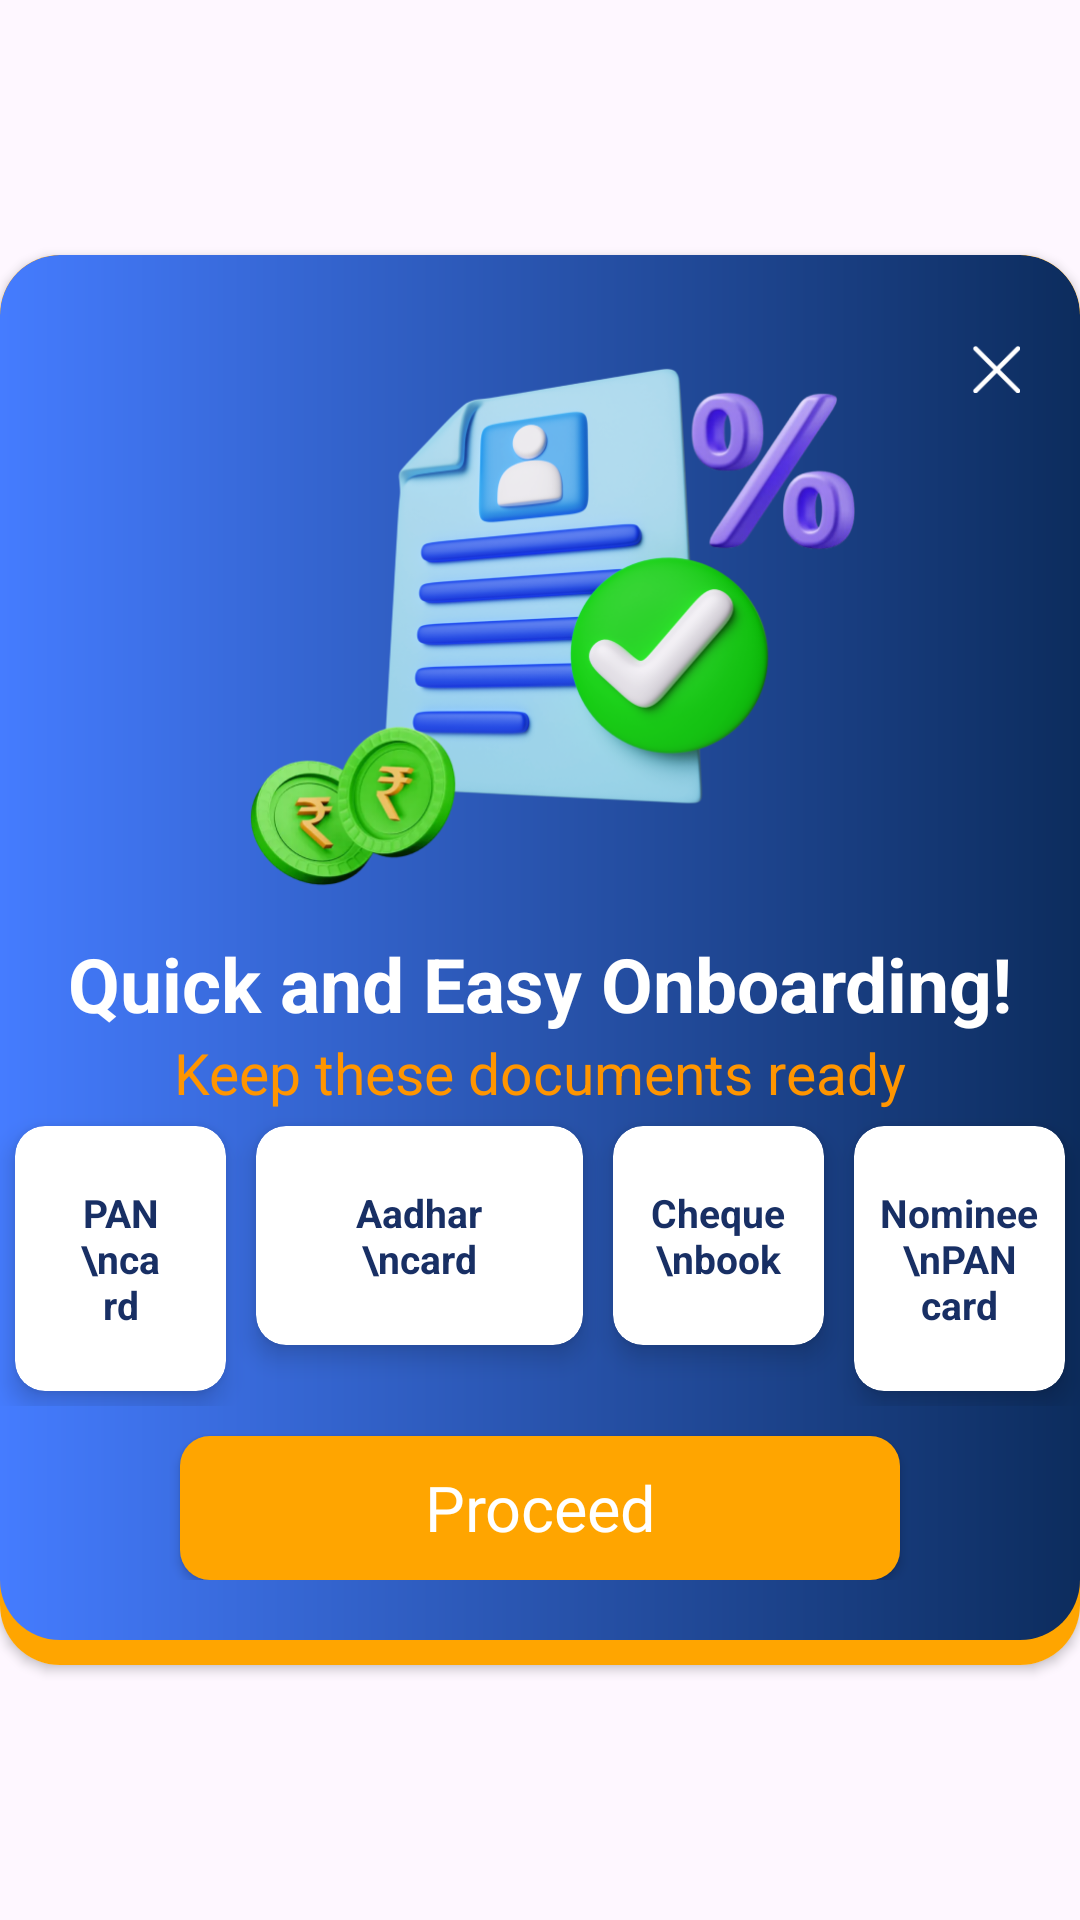

Where icons sit on this 1080px×1920px app screen, as (x1, y1, x2, y2):
cross: (973, 346, 1020, 393)
